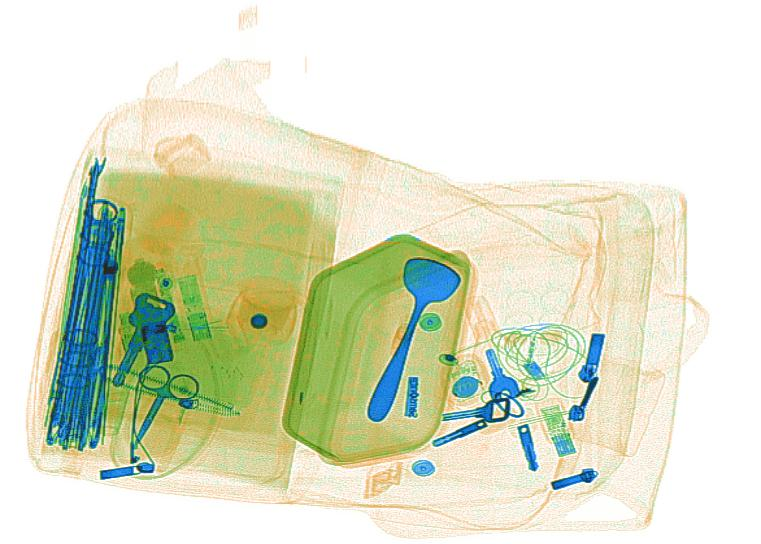USBFlashDisk: (177, 275, 212, 341), (540, 402, 576, 459), (117, 311, 143, 358)
scissors: (131, 362, 199, 450)
